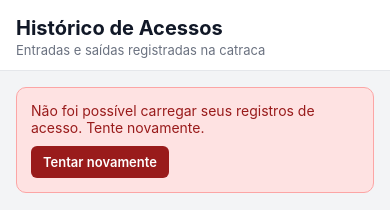
Test: HistoricoAcessosScreen › deve exibir alerta de erro e permitir tentar novamente em caso de falha na API
The width and height of the screenshot is (390, 210).
Expected: the text "Não foi possível carregar seus registros de acesso. Tente novamente." is shown, [31, 102, 359, 136]
Click the text "Tentar novamente": [100, 162] box [43, 154, 157, 170]
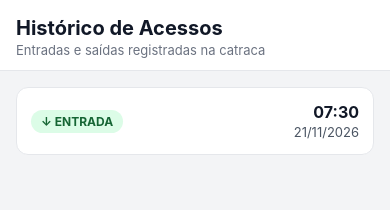
Now the text "↓ ENTRADA" is shown, box [41, 114, 113, 128]
